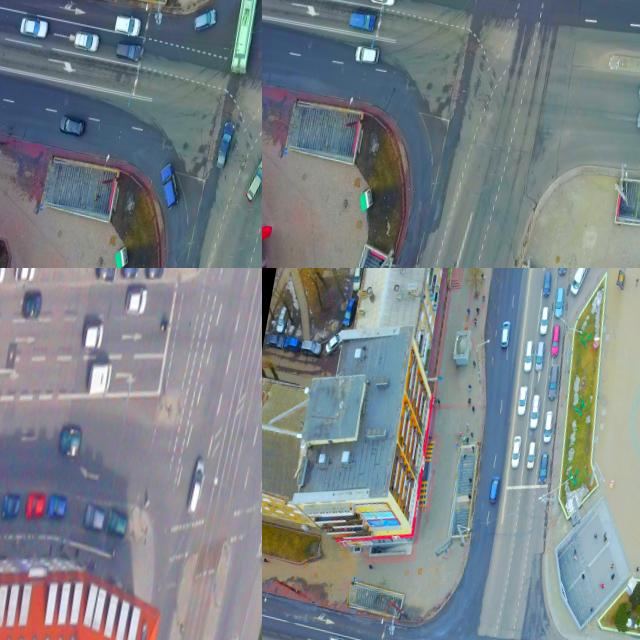UAI: (154, 162, 185, 211), (187, 458, 206, 516), (214, 120, 236, 170), (243, 154, 262, 205), (58, 425, 84, 457), (347, 7, 379, 32), (104, 507, 129, 539), (20, 287, 44, 320), (18, 15, 49, 40), (81, 319, 105, 351), (72, 27, 101, 53), (192, 5, 218, 34), (124, 285, 149, 315), (57, 113, 88, 137), (0, 489, 22, 522), (114, 38, 143, 63), (526, 392, 544, 430), (353, 42, 381, 66), (507, 432, 524, 471), (520, 337, 537, 376), (544, 362, 561, 400), (83, 504, 106, 532), (24, 492, 46, 520), (539, 409, 556, 444), (536, 450, 552, 487), (47, 493, 68, 521), (496, 318, 513, 352), (548, 322, 564, 358), (551, 284, 567, 318), (515, 383, 530, 418), (487, 472, 502, 504), (524, 440, 539, 472), (537, 306, 552, 337), (533, 340, 547, 373), (540, 269, 554, 298), (94, 268, 119, 282), (14, 268, 37, 282), (143, 268, 167, 281), (367, 0, 398, 9), (323, 632, 352, 640), (121, 268, 141, 279), (556, 268, 571, 275)
car: (227, 0, 262, 74)
harvester: (87, 357, 115, 398), (568, 268, 595, 297), (113, 12, 142, 38)
